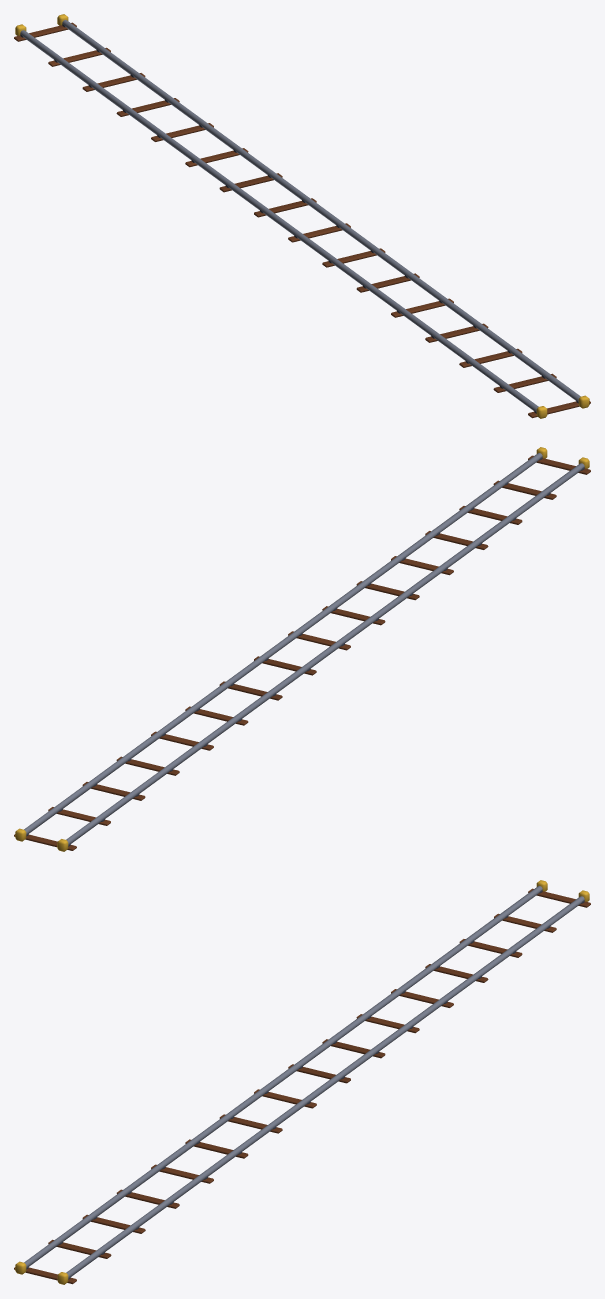
The model's file is SM_Station_FilmCamera_Track.fbx.
3 views of the same model, one above another, from view 1: azimuth 30°, elevation 25°; view 2: azimuth 150°, elevation 25°; view 3: azimuth 330°, elevation 25° (orthographic).
Visible parts, largest first — view 1: SM_Station_FilmCamera_Track; view 2: SM_Station_FilmCamera_Track; view 3: SM_Station_FilmCamera_Track.
Boxes of the visible parts, box(x1,y1,x2,y2) form: SM_Station_FilmCamera_Track: box(14, 14, 590, 418); SM_Station_FilmCamera_Track: box(14, 447, 590, 851); SM_Station_FilmCamera_Track: box(14, 880, 590, 1284).
Size of the model in its own units: 96.3 by 16.18 by 1472.
